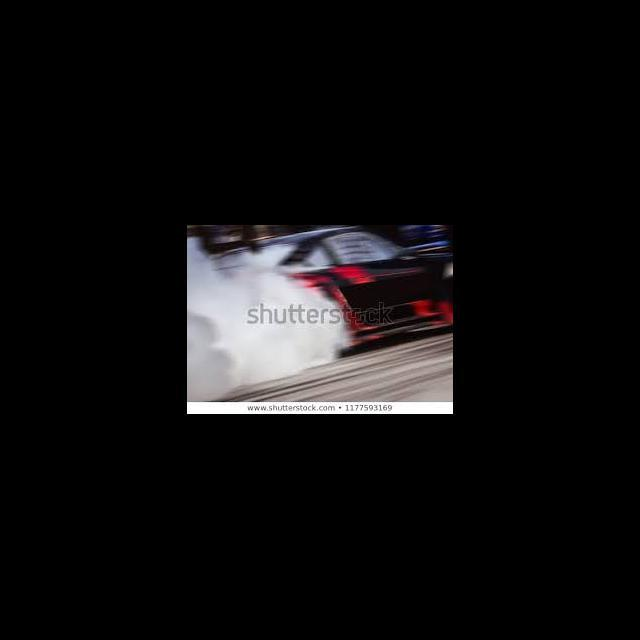Smoke: (187, 243, 335, 369)
